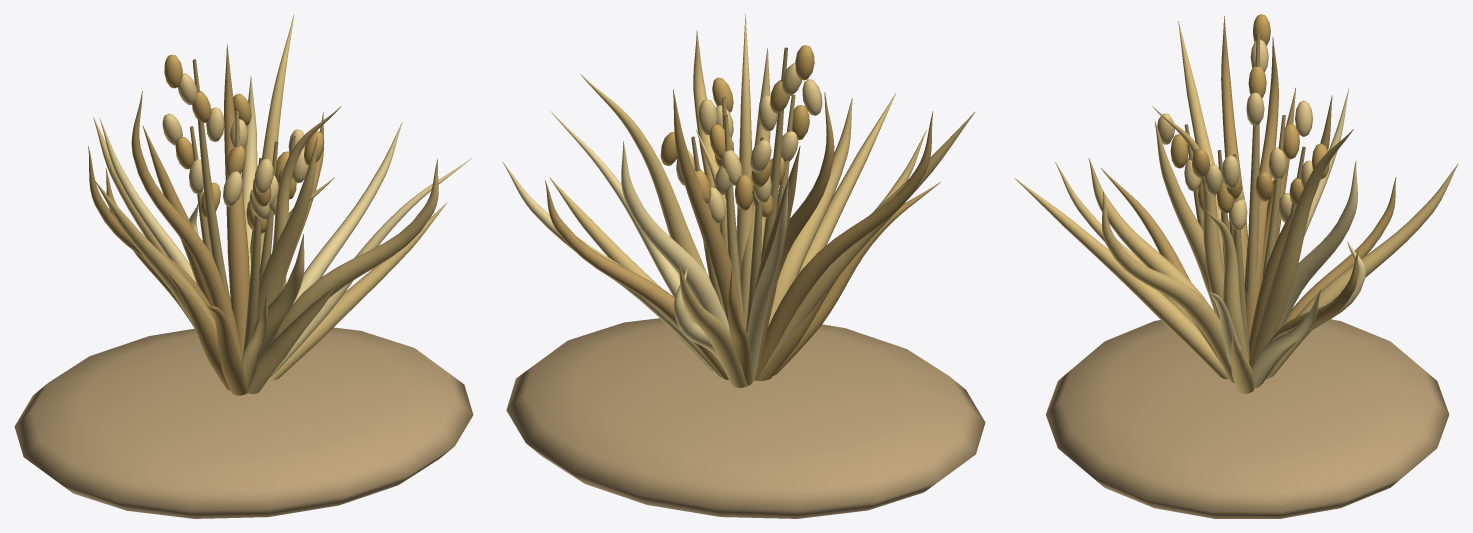
File: capim_amarelado.glb
3 views of the same model, side by side, from view 1: azimuth 30°, elevation 25°; view 2: azimuth 150°, elevation 25°; view 3: azimuth 270°, elevation 25° (orthographic). The views are drawn at different scales.
Visible parts, largest first — view 1: Base baixa de areia, Vegetação do deserto | Capim seco | palha dourada, Vegetação do deserto | Capim seco | sombra ocre, Vegetação do deserto | Capim seco | amarelo pálido, Vegetação do deserto | Sementes claras, Vegetação do deserto | Hastes envelhecidas, Vegetação do deserto | Sementes maduras; view 2: Base baixa de areia, Vegetação do deserto | Capim seco | palha dourada, Vegetação do deserto | Capim seco | sombra ocre, Vegetação do deserto | Capim seco | amarelo pálido, Vegetação do deserto | Sementes claras, Vegetação do deserto | Sementes maduras, Vegetação do deserto | Hastes envelhecidas; view 3: Base baixa de areia, Vegetação do deserto | Capim seco | palha dourada, Vegetação do deserto | Capim seco | sombra ocre, Vegetação do deserto | Capim seco | amarelo pálido, Vegetação do deserto | Sementes claras, Vegetação do deserto | Hastes envelhecidas, Vegetação do deserto | Sementes maduras.
Part boxes in pixels (x1,y1,x2,y2): Base baixa de areia: (14, 327, 473, 518); Vegetação do deserto | Capim seco | palha dourada: (93, 14, 447, 394); Vegetação do deserto | Capim seco | sombra ocre: (88, 44, 323, 395); Vegetação do deserto | Capim seco | amarelo pálido: (99, 76, 471, 378); Vegetação do deserto | Sementes claras: (162, 73, 308, 219); Vegetação do deserto | Hastes envelhecidas: (190, 59, 295, 361); Vegetação do deserto | Sementes maduras: (164, 54, 324, 233); Base baixa de areia: (506, 318, 985, 518); Vegetação do deserto | Capim seco | palha dourada: (549, 14, 975, 387); Vegetação do deserto | Capim seco | sombra ocre: (545, 89, 940, 385); Vegetação do deserto | Capim seco | amarelo pálido: (502, 111, 788, 381); Vegetação do deserto | Sementes claras: (676, 63, 822, 223); Vegetação do deserto | Sementes maduras: (660, 45, 814, 217); Vegetação do deserto | Hastes envelhecidas: (691, 47, 795, 333); Base baixa de areia: (1045, 319, 1449, 518); Vegetação do deserto | Capim seco | palha dourada: (1014, 21, 1458, 393); Vegetação do deserto | Capim seco | sombra ocre: (1101, 16, 1396, 383); Vegetação do deserto | Capim seco | amarelo pálido: (1207, 89, 1365, 387); Vegetação do deserto | Sementes claras: (1157, 39, 1312, 230); Vegetação do deserto | Hastes envelhecidas: (1184, 32, 1305, 358); Vegetação do deserto | Sementes maduras: (1170, 14, 1329, 222).
Bounding box in the file's own units: 0.5982 × 0.5802 × 0.5727.
